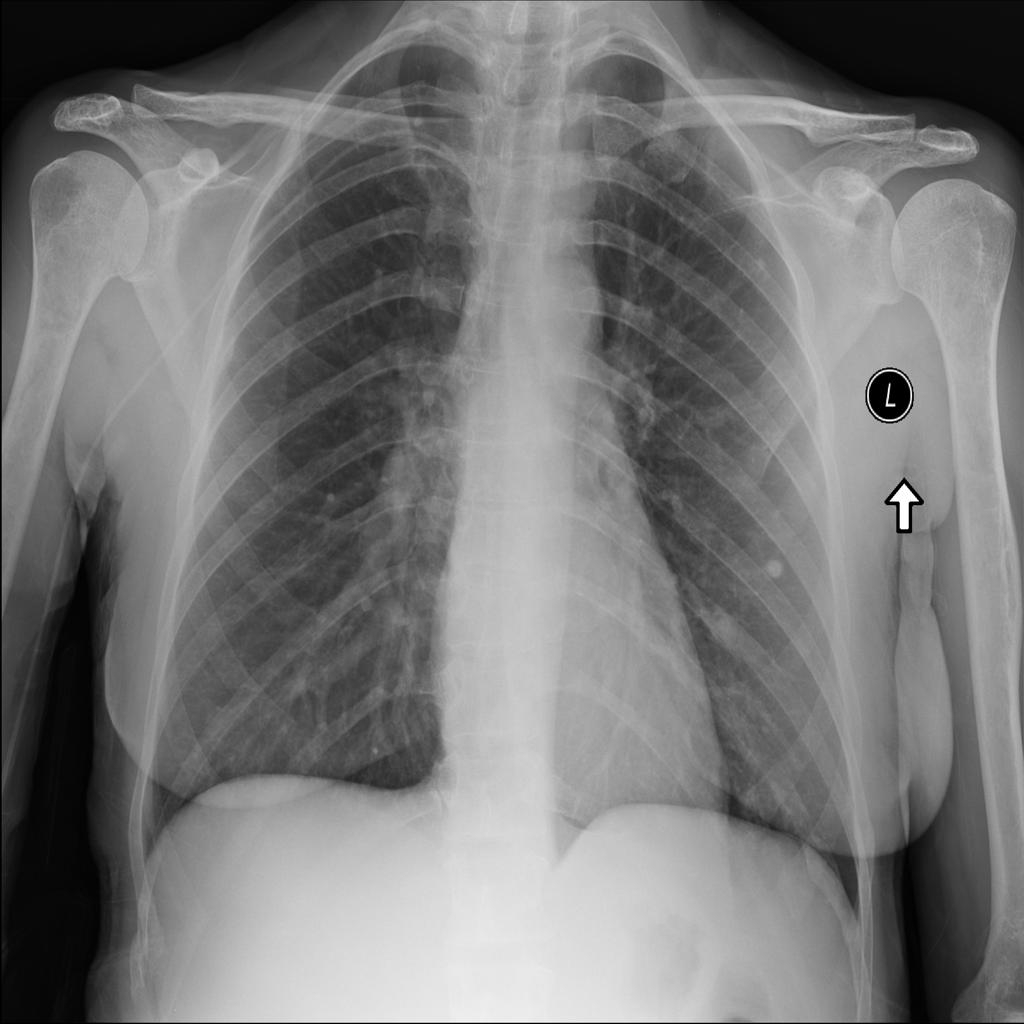nodule: (735, 239, 782, 291), (756, 547, 793, 585)
